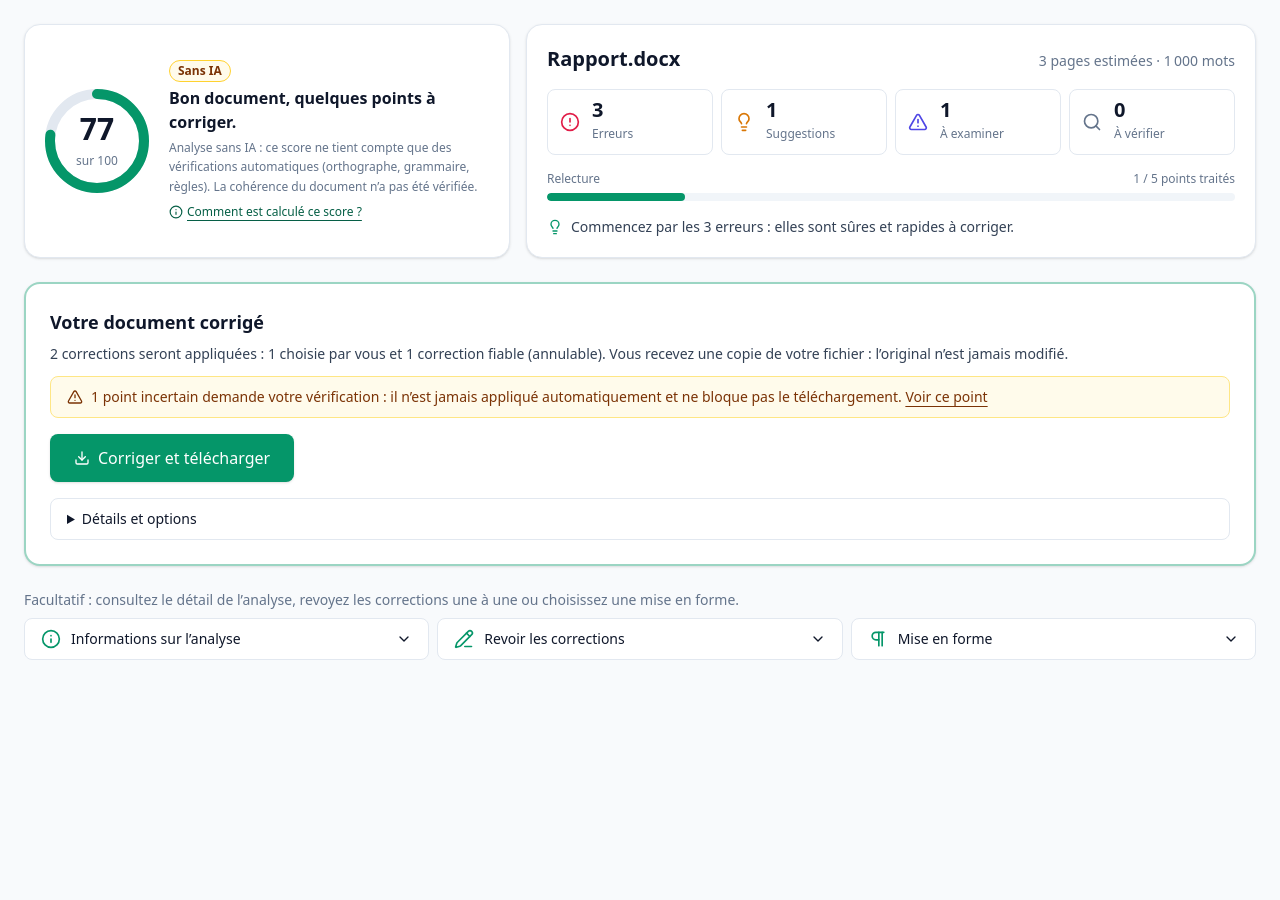
Test: Partie supérieure et actions › les compteurs du haut ouvrent « Corriger » avec le filtre correspondant
The image size is (1280, 900).
Click the button "1 À examiner" at (978, 122), box x1=895 y1=89 x2=1061 y2=155
(page scrolled)
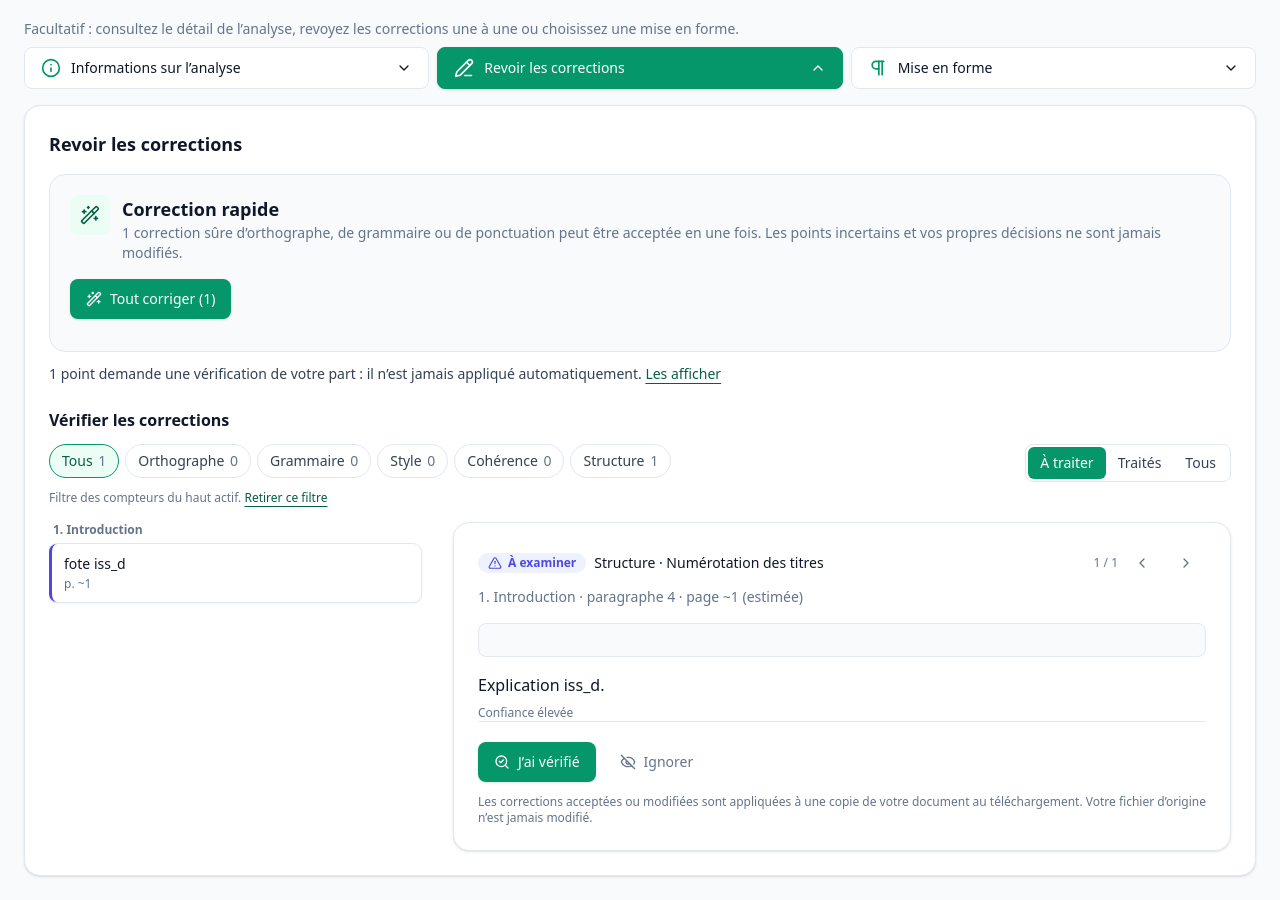
expect the navigation bar named "Points relevés" shows "fote iss_d": met, box x1=49 y1=544 x2=421 y2=602
